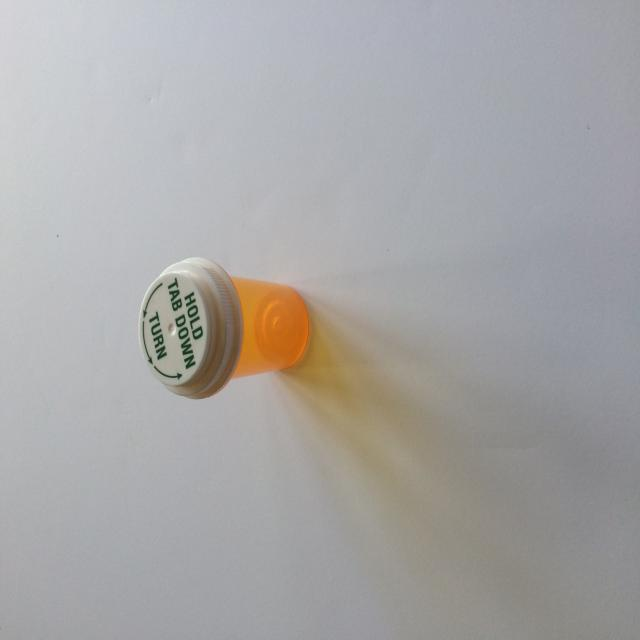plastic: (129, 244, 323, 406)
